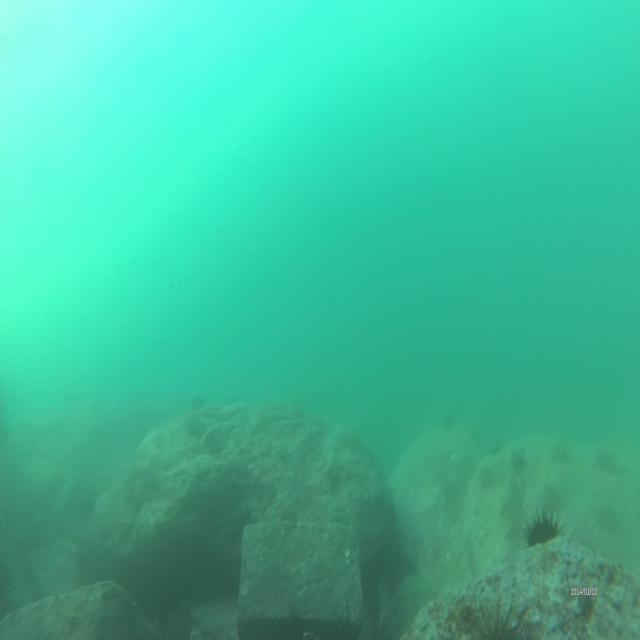echinus: (524, 510, 562, 549)
